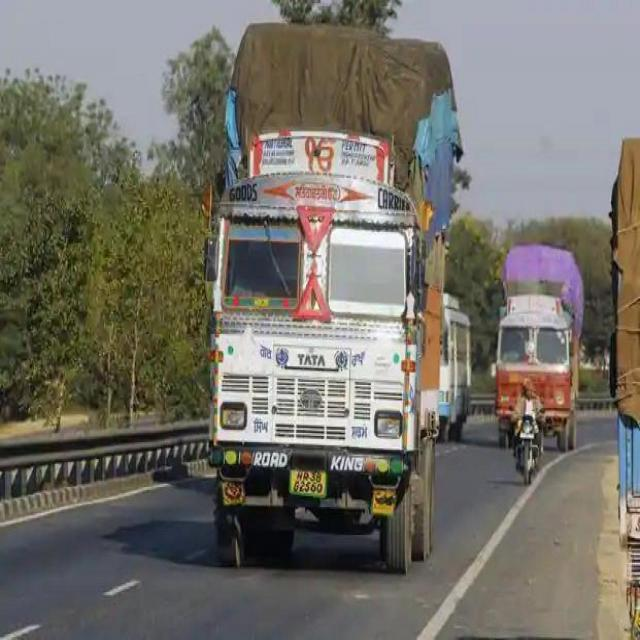Truck: (212, 124, 442, 570), (492, 296, 579, 450)
motorcycle: (514, 410, 542, 481)
